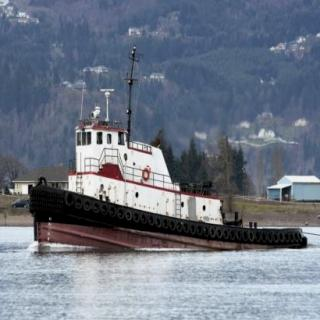Tug Boat: (26, 68, 303, 250)
